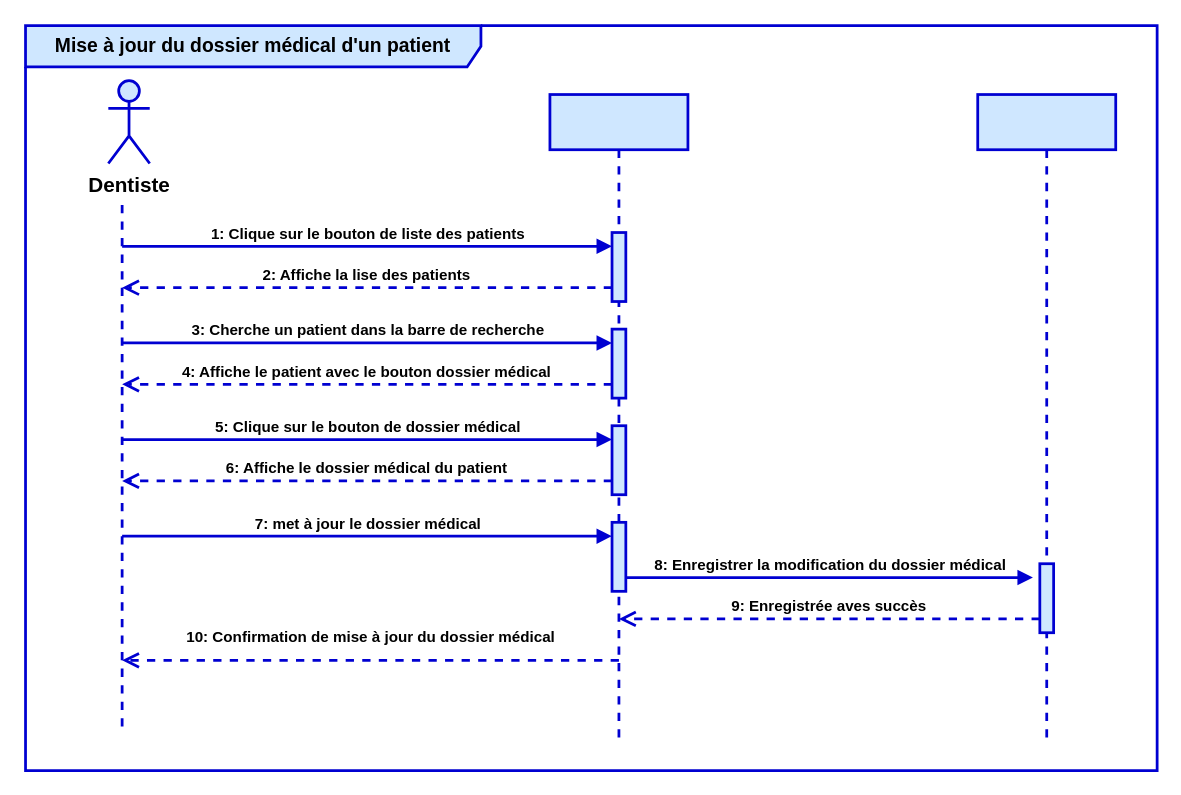
This 1181x795 diagram has some shape labels left out. Here are the shapes that lost their labels. From the top down, the box of each, then its label:
(548, 92, 689, 744): Système
(976, 92, 1116, 744): SGBD
